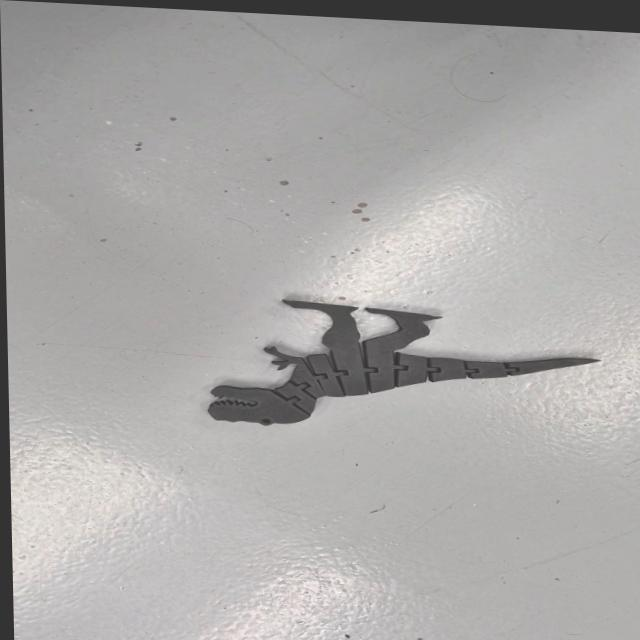dino: (204, 295, 605, 444)
